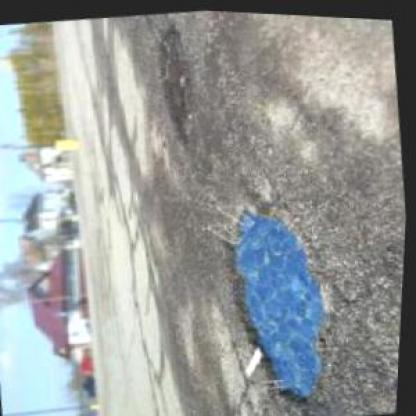pothole: (212, 194, 341, 408), (147, 20, 202, 144)
